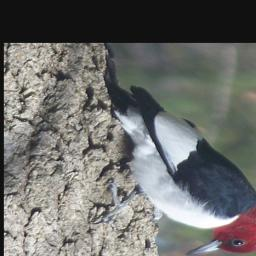Woodpecker: (85, 80, 256, 256)
